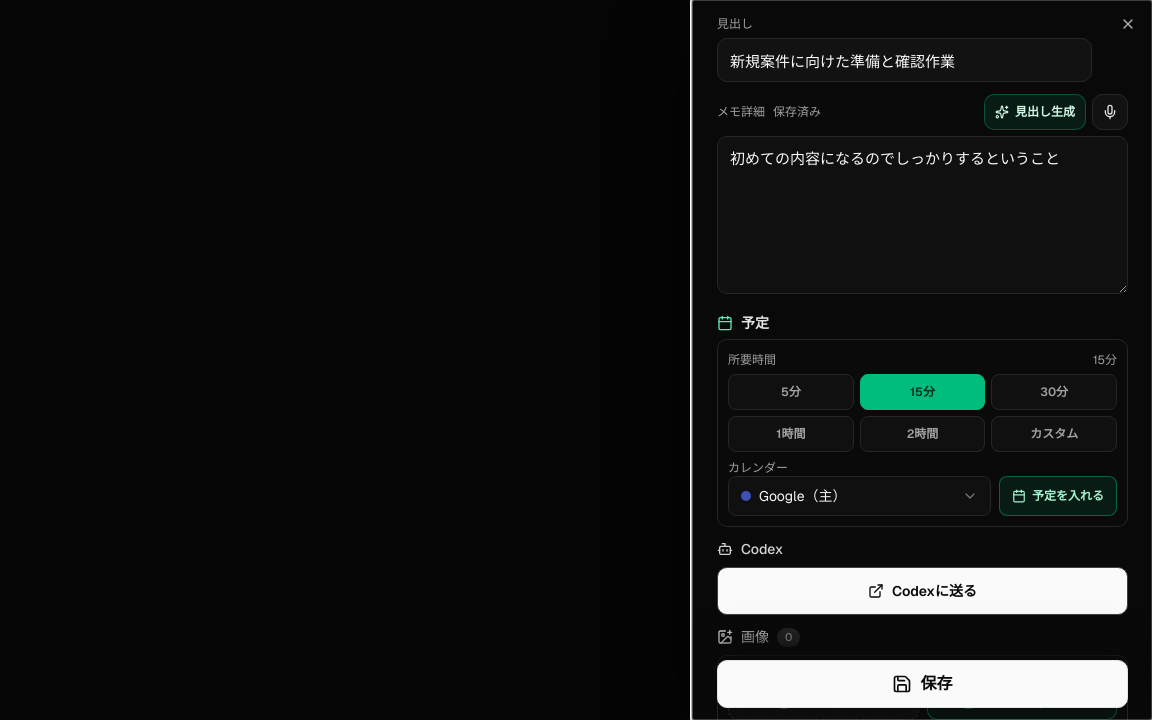
Scenario: CodexNodePanel › desktop opens as a compact right-side edit sheet with memo and schedule controls
Expected: the field showing "新規案件に向けた準備と確認作業" is shown, [717,38,1092,82]
Expected: the text box showing "初めての内容になるのでしっかりするということ" is shown, [717,136,1128,294]
Click the button "予定を入れる" at (1058, 496), box [999,476,1117,516]
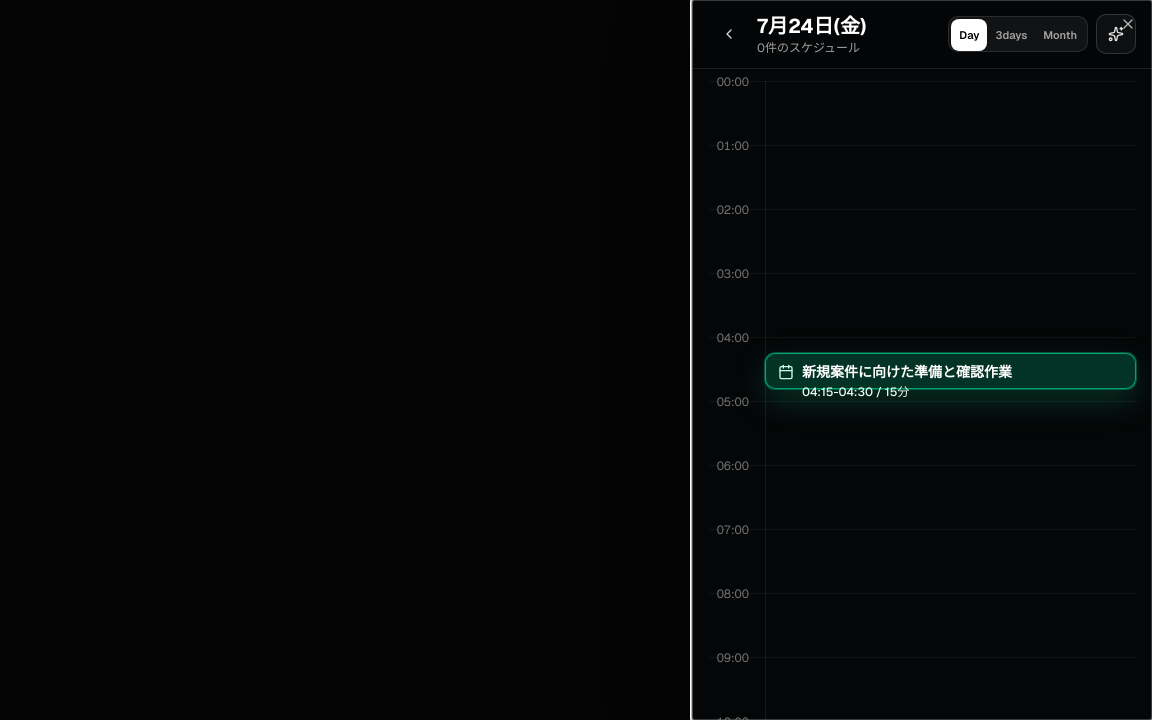
Now the element with test id "codex-node-task-scheduler" is shown, box [693,0,1151,719]
Now the button named "予定フォームに戻る" is shown, box [709,14,749,54]
